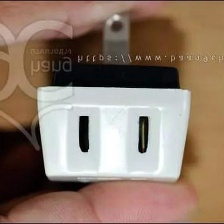three_eye_plug: (33, 7, 195, 188)
